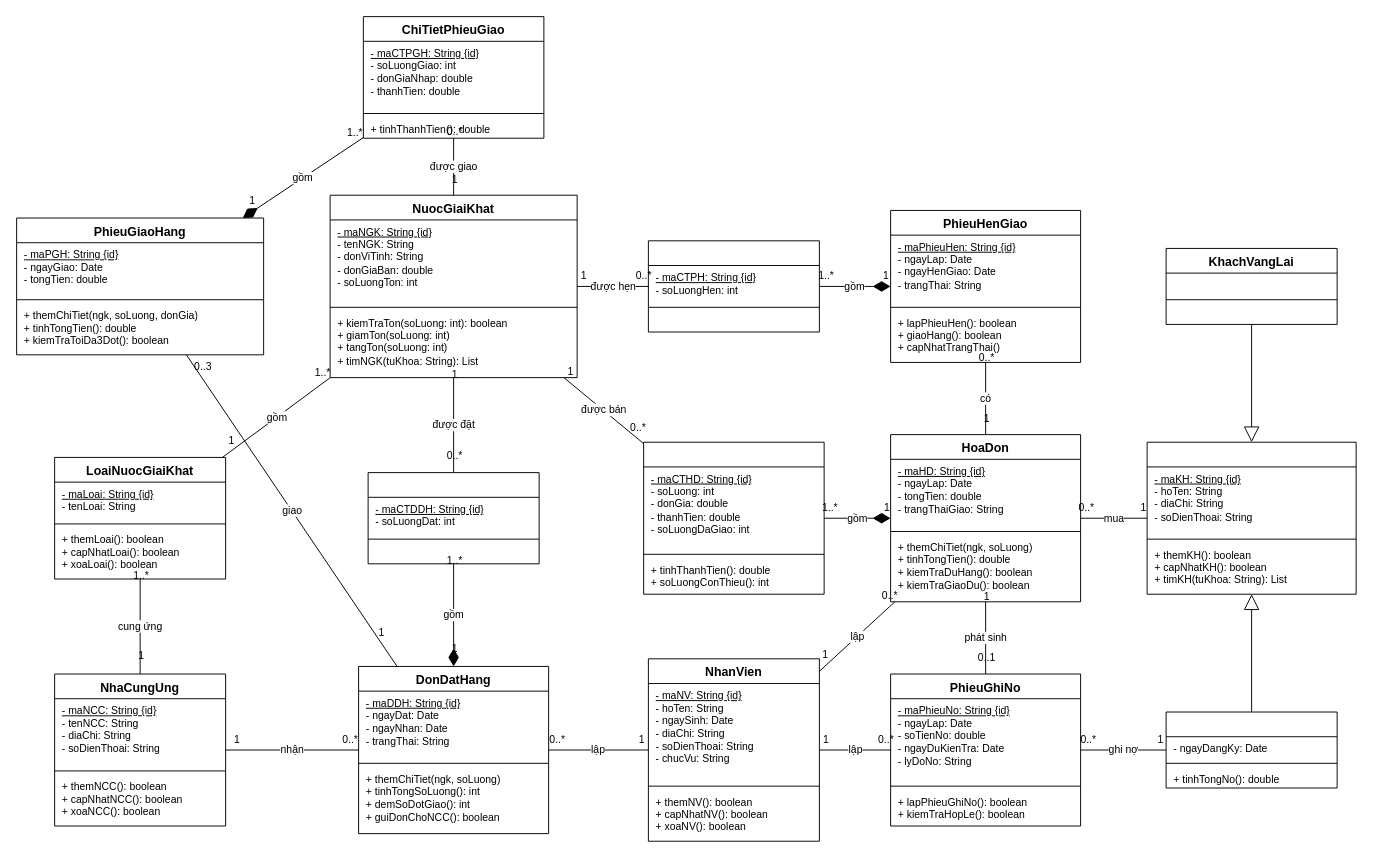
The diagram is 1373 pixels wide and 863 high, and some of its shapes have lost their labels. Each missing label, with the box of its shape:
ChiTietDonDatHang: (367, 472, 539, 564)
ChiTietHoaDon: (643, 441, 824, 594)
ChiTietPhieuHen: (647, 240, 819, 332)
KhachHang: (1146, 441, 1356, 594)
KhachQuen: (1165, 711, 1337, 788)
